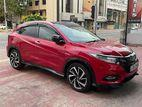car: (7, 19, 139, 93)
